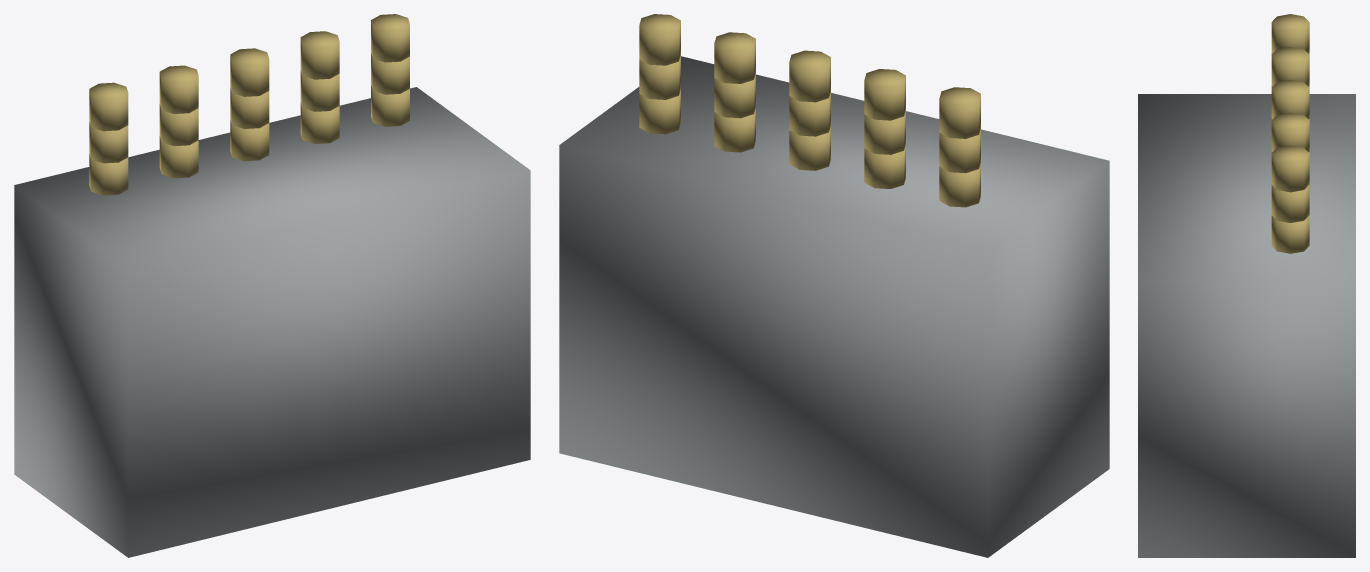
File: votive_candle_stand__squat.glb
3 views of the same model, side by side, from view 1: azimuth 30°, elevation 25°; view 2: azimuth 150°, elevation 25°; view 3: azimuth 270°, elevation 25° (orthographic). The views are drawn at different scales.
Parts seen in each view (by area): view 1: world; view 2: world; view 3: world.
Boxes of the visible parts, x1,y1,x2,y2 form: world: (14, 14, 530, 557); world: (559, 14, 1109, 557); world: (1138, 14, 1355, 557).
Size of the model in its own units: 0.88 by 0.8232 by 0.432.
